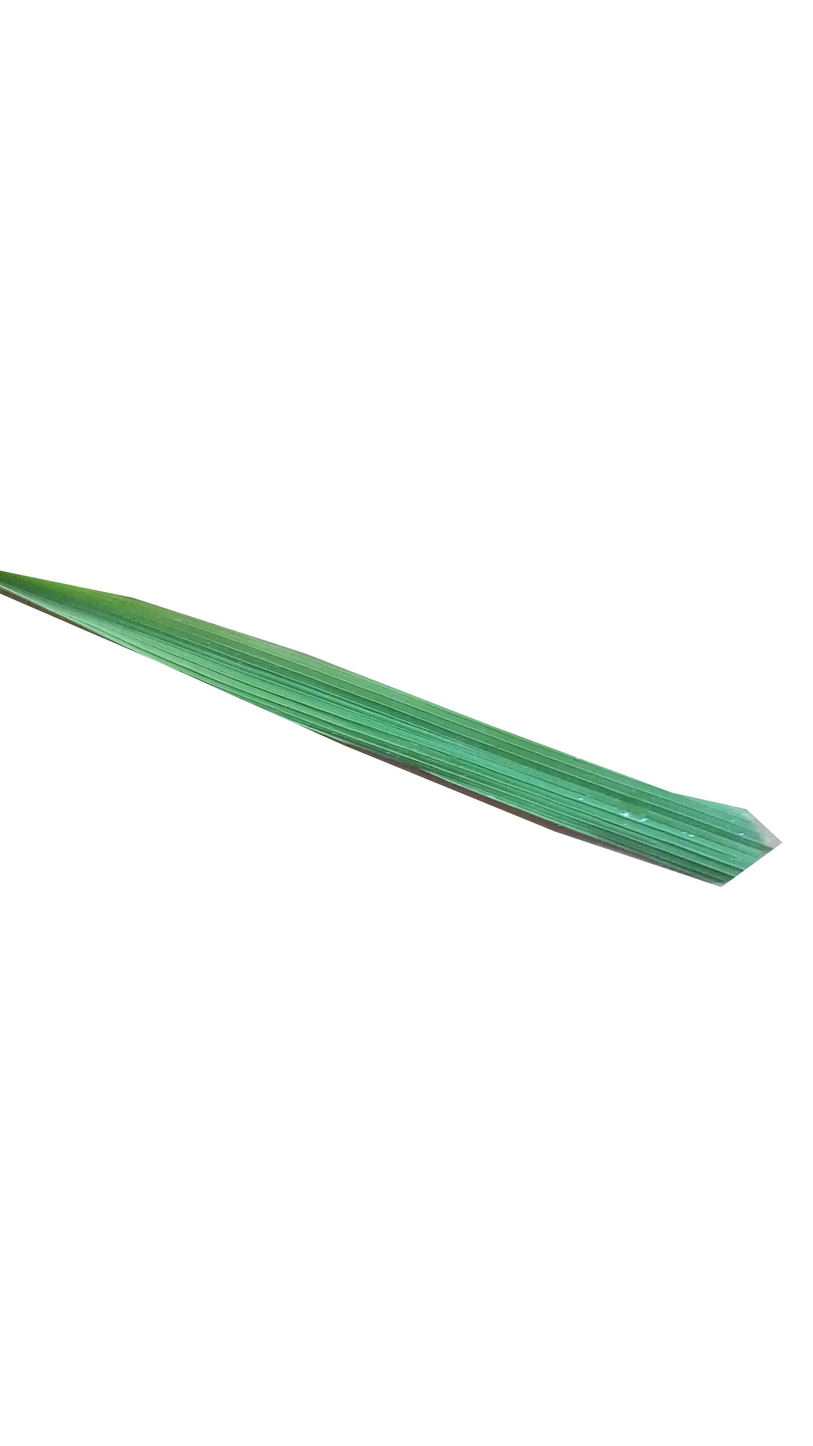Healthy: (0, 570, 781, 892)
